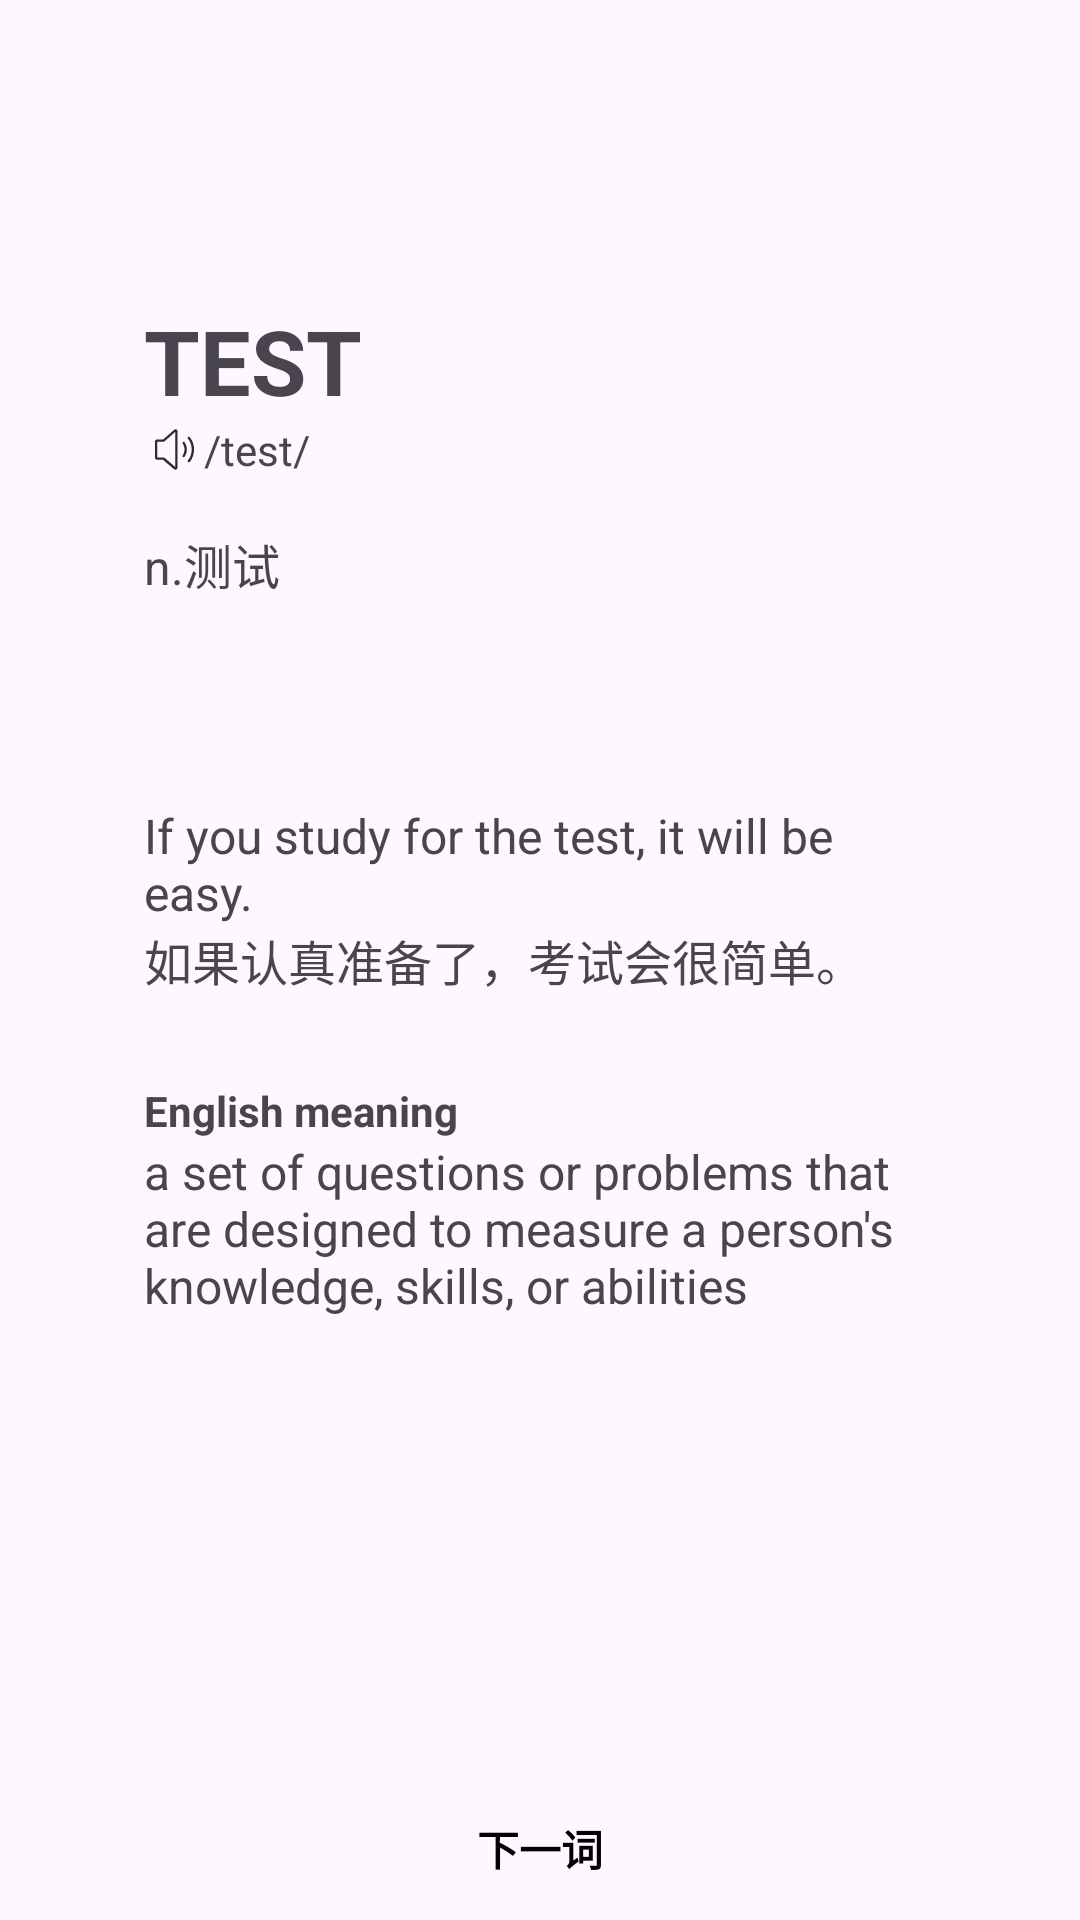

Icons on this 1080×1920 Android screen, each with its box as (x1, y1, x2, y2):
play sound: (155, 429, 194, 470)
